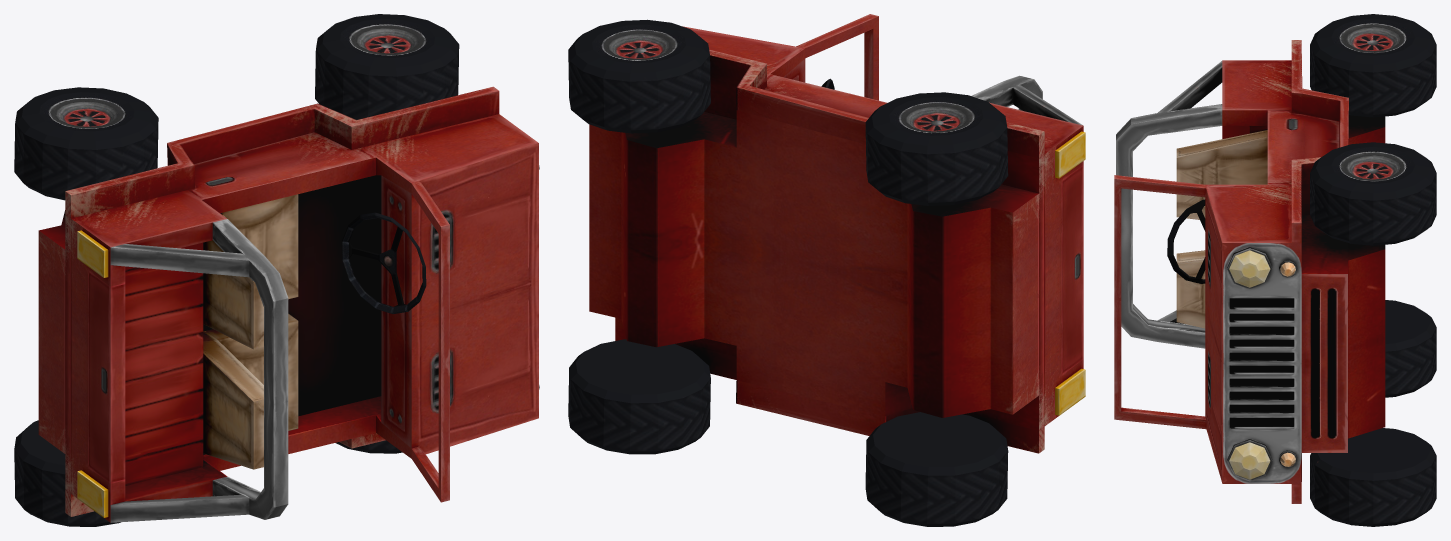
Rendered from truck.gltf.
3 views of the same model, side by side, from view 1: azimuth 30°, elevation 25°; view 2: azimuth 150°, elevation 25°; view 3: azimuth 270°, elevation 25° (orthographic). The views are drawn at different scales.
Visible parts, largest first — view 1: Body, TireBL, TireFL, TireBR, SteeringWheel; view 2: Body, TireBR, TireFR, TireFL, TireBL; view 3: Body, TireFL, TireBL, TireFR, TireBR, SteeringWheel.
Boxes of the visible parts, x1,y1,x2,y2 form: Body: [38, 86, 539, 522]; TireBL: [14, 87, 158, 200]; TireFL: [315, 14, 459, 119]; TireBR: [14, 420, 120, 526]; SteeringWheel: [342, 212, 426, 313]; Body: [589, 14, 1085, 453]; TireBR: [865, 412, 1008, 526]; TireFR: [568, 339, 710, 454]; TireFL: [568, 19, 710, 133]; TireBL: [865, 92, 1008, 205]; Body: [1114, 40, 1385, 503]; TireFL: [1310, 142, 1436, 245]; TireBL: [1310, 14, 1436, 117]; TireFR: [1310, 428, 1436, 526]; TireBR: [1385, 300, 1436, 397]; SteeringWheel: [1167, 199, 1205, 283].
Bounding box in the file's own units: 4.79 × 4.05 × 3.45.
Materials: 1 (1 with a texture image).
